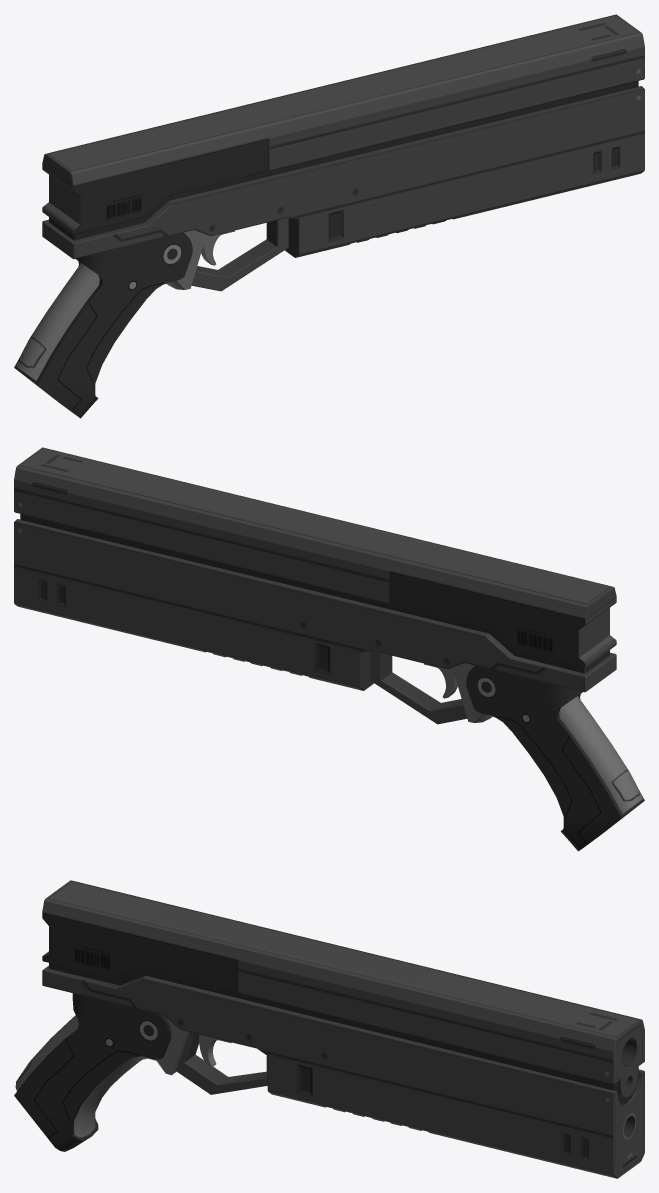
File: E1GunMd030011.fbx
The picture shows the model from 3 angles, top to bottom: view 1: azimuth 30°, elevation 25°; view 2: azimuth 150°, elevation 25°; view 3: azimuth 330°, elevation 25°; orthographic projection.
Parts seen in each view (by area): view 1: E1GunMd030011; view 2: E1GunMd030011; view 3: E1GunMd030011.
Boxes of the visible parts, x1=… form: E1GunMd030011: x1=14, y1=14, x2=644, y2=418; E1GunMd030011: x1=14, y1=447, x2=644, y2=851; E1GunMd030011: x1=14, y1=880, x2=644, y2=1178.
Size of the model in its own units: 0.343 by 0.137 by 0.0306.
Materials: 1 (1 with a texture image).
